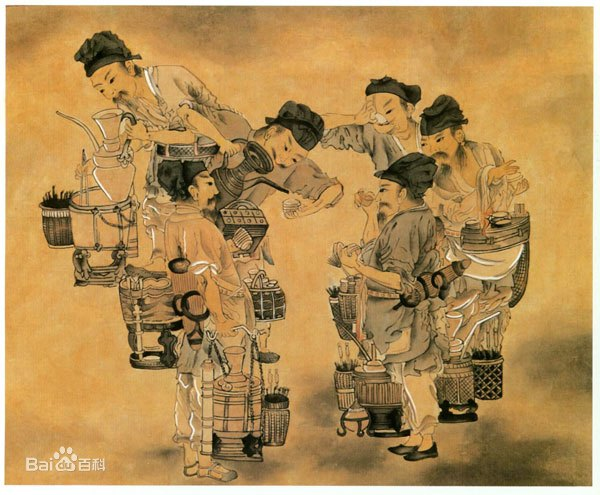man: (63, 24, 246, 334), (327, 151, 469, 465), (411, 91, 538, 422), (139, 155, 261, 477), (176, 88, 347, 239), (317, 75, 445, 165)
